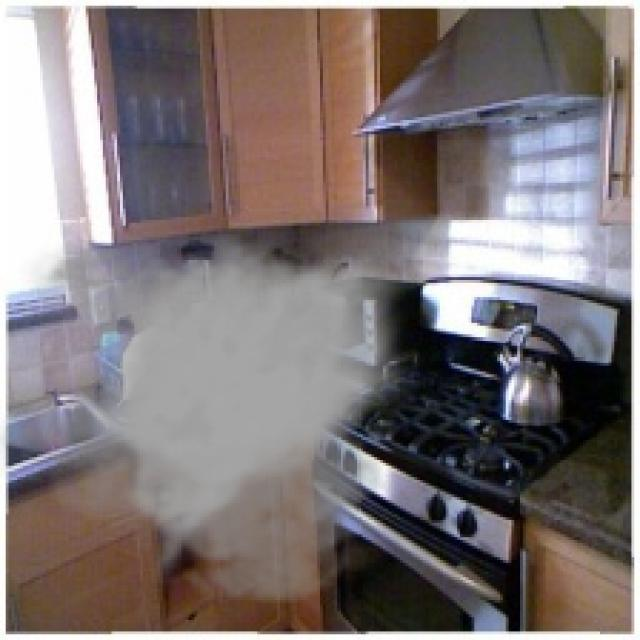smoke: (0, 234, 420, 609)
